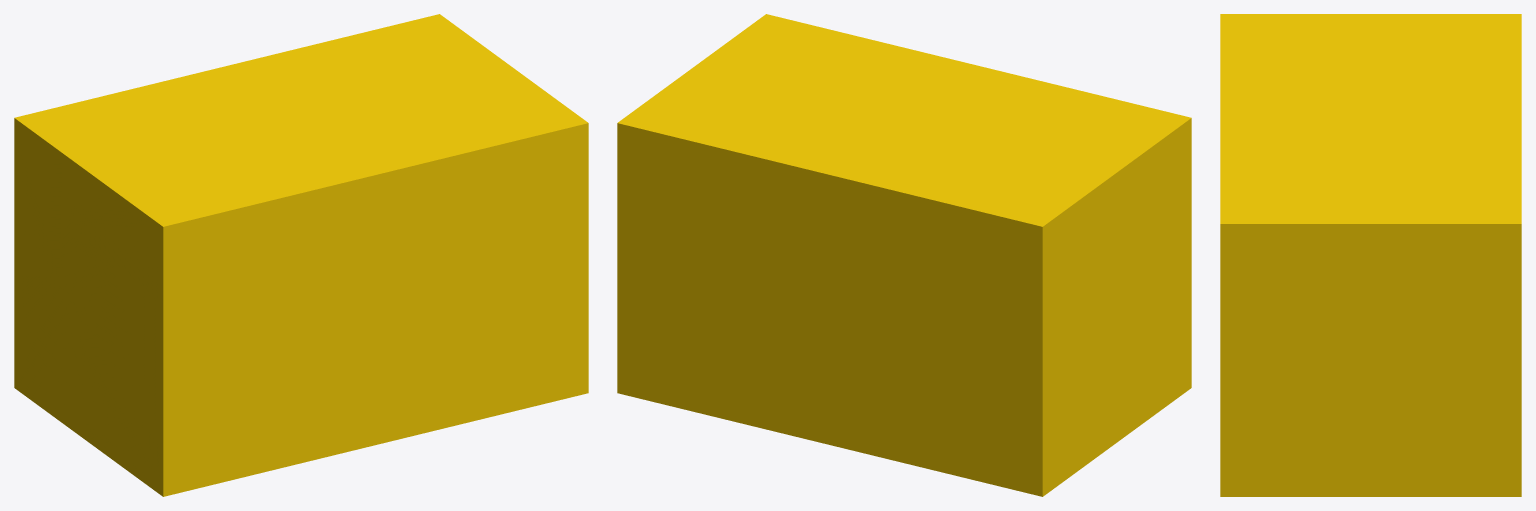
Rendered from DestroyedBlock.fbx.
3 views of the same model, side by side, from view 1: azimuth 30°, elevation 25°; view 2: azimuth 150°, elevation 25°; view 3: azimuth 270°, elevation 25° (orthographic).
Parts seen in each view (by area): view 1: Piece_17, Piece_18, Piece_16, Piece_19, Piece_12, Piece_6, Piece_5, Piece_0, Piece_15, Piece_11, Piece_7, Piece_14 (+1 smaller); view 2: Piece_5, Piece_0, Piece_1, Piece_16, Piece_3, Piece_6, Piece_15, Piece_7, Piece_19, Piece_2, Piece_13, Piece_4 (+4 smaller); view 3: Piece_13, Piece_1, Piece_7, Piece_6, Piece_17, Piece_16, Piece_0, Piece_5, Piece_18.
Boxes of the visible parts, x1,y1,x2,y2 form: Piece_17: (343, 161, 588, 447); Piece_18: (290, 106, 588, 357); Piece_16: (62, 140, 317, 321); Piece_19: (61, 227, 252, 451); Piece_12: (64, 286, 306, 490); Piece_6: (187, 86, 524, 177); Piece_5: (14, 76, 216, 275); Piece_0: (186, 33, 401, 108); Piece_15: (14, 275, 87, 440); Piece_11: (269, 341, 363, 470); Piece_7: (393, 50, 564, 106); Piece_14: (79, 336, 189, 496); Piece_5: (866, 153, 1100, 403); Piece_0: (696, 101, 922, 291); Piece_1: (617, 71, 721, 322); Piece_16: (1002, 80, 1191, 250); Piece_3: (775, 355, 997, 478); Piece_6: (764, 45, 1020, 156); Piece_15: (970, 316, 1115, 496); Piece_7: (689, 31, 784, 338); Piece_19: (1089, 196, 1191, 342); Piece_2: (765, 274, 959, 379); Piece_13: (617, 315, 733, 421); Piece_4: (823, 197, 972, 386); Piece_13: (1263, 347, 1521, 496); Piece_1: (1377, 185, 1521, 418); Piece_7: (1260, 173, 1468, 359); Piece_6: (1250, 66, 1437, 208); Piece_17: (1220, 260, 1304, 496); Piece_16: (1220, 14, 1423, 91); Piece_0: (1391, 93, 1521, 188); Piece_5: (1389, 14, 1521, 98); Piece_18: (1220, 90, 1286, 262).
Bounding box in the file's own units: 61 × 37 × 37.
